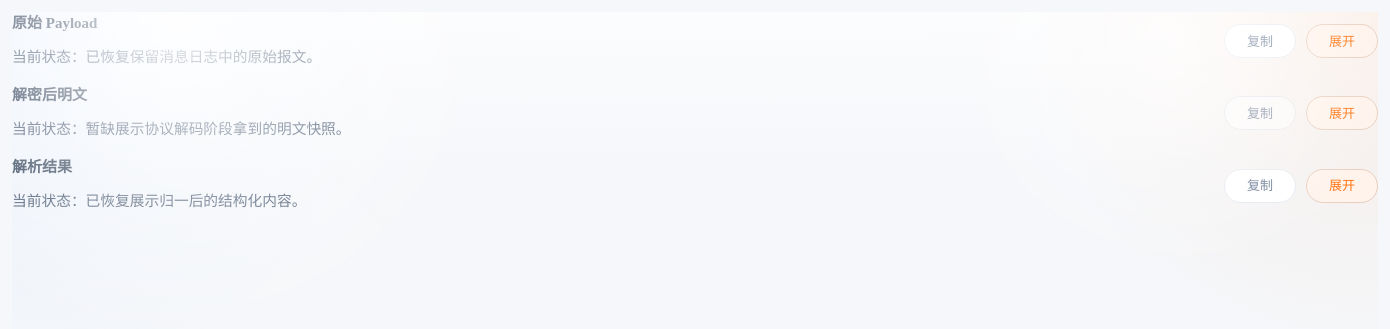
Scenario: MessageTracePayloadComparisonSection › keeps code content collapsed by default and reveals it inside the same detail card after expansion
expect the text "{\"cipher\":true}" is not shown: met
Click the button with test id "message-trace-payload-toggle-raw".
click(1342, 41)  # box [1306, 24, 1378, 58]
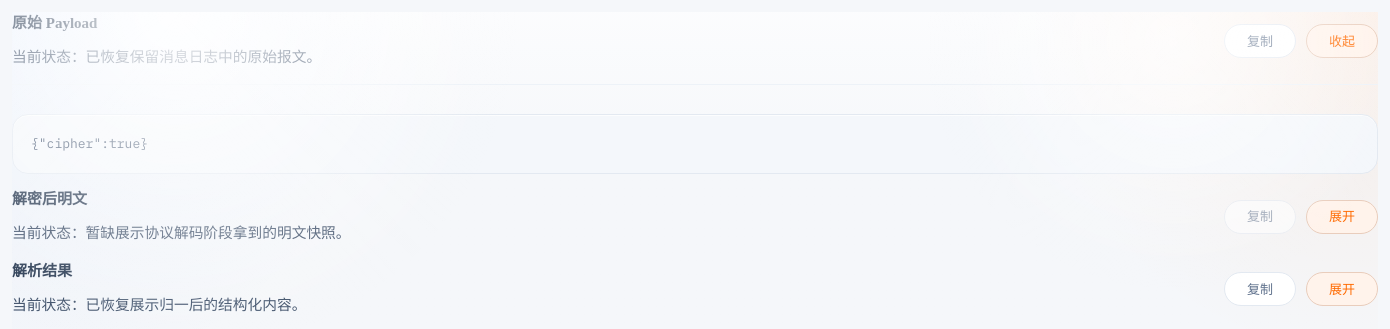
expect the text "{\"cipher\":true}" is shown: met, box [12, 114, 1378, 174]
